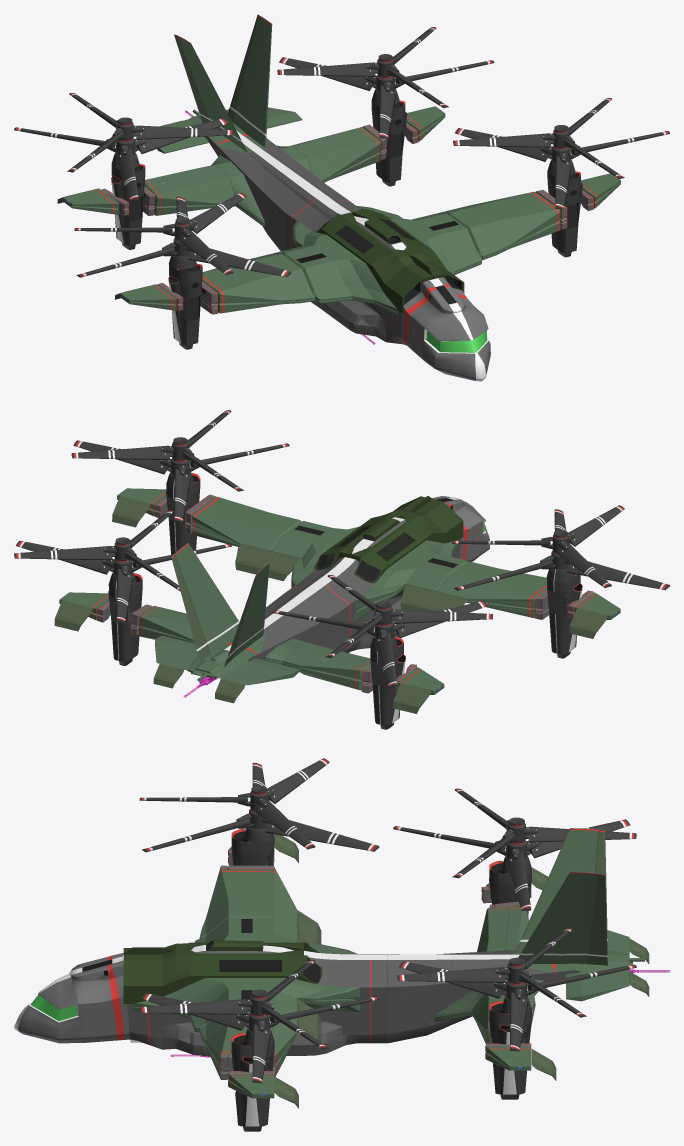
Rendered from VTOL V48- NIGHT EAGLE.glb.
3 views of the same model, one above another, from view 1: azimuth 30°, elevation 25°; view 2: azimuth 150°, elevation 25°; view 3: azimuth 270°, elevation 25° (orthographic). The views are drawn at different scales.
Parts seen in each view (by area): view 1: V48-NE; view 2: V48-NE; view 3: V48-NE.
Boxes of the visible parts, bbox=[...] form: V48-NE: bbox=[14, 14, 669, 381]; V48-NE: bbox=[14, 410, 669, 729]; V48-NE: bbox=[14, 758, 669, 1131].
Bounding box in the file's own units: 9.45 × 2.63 × 8.24.
